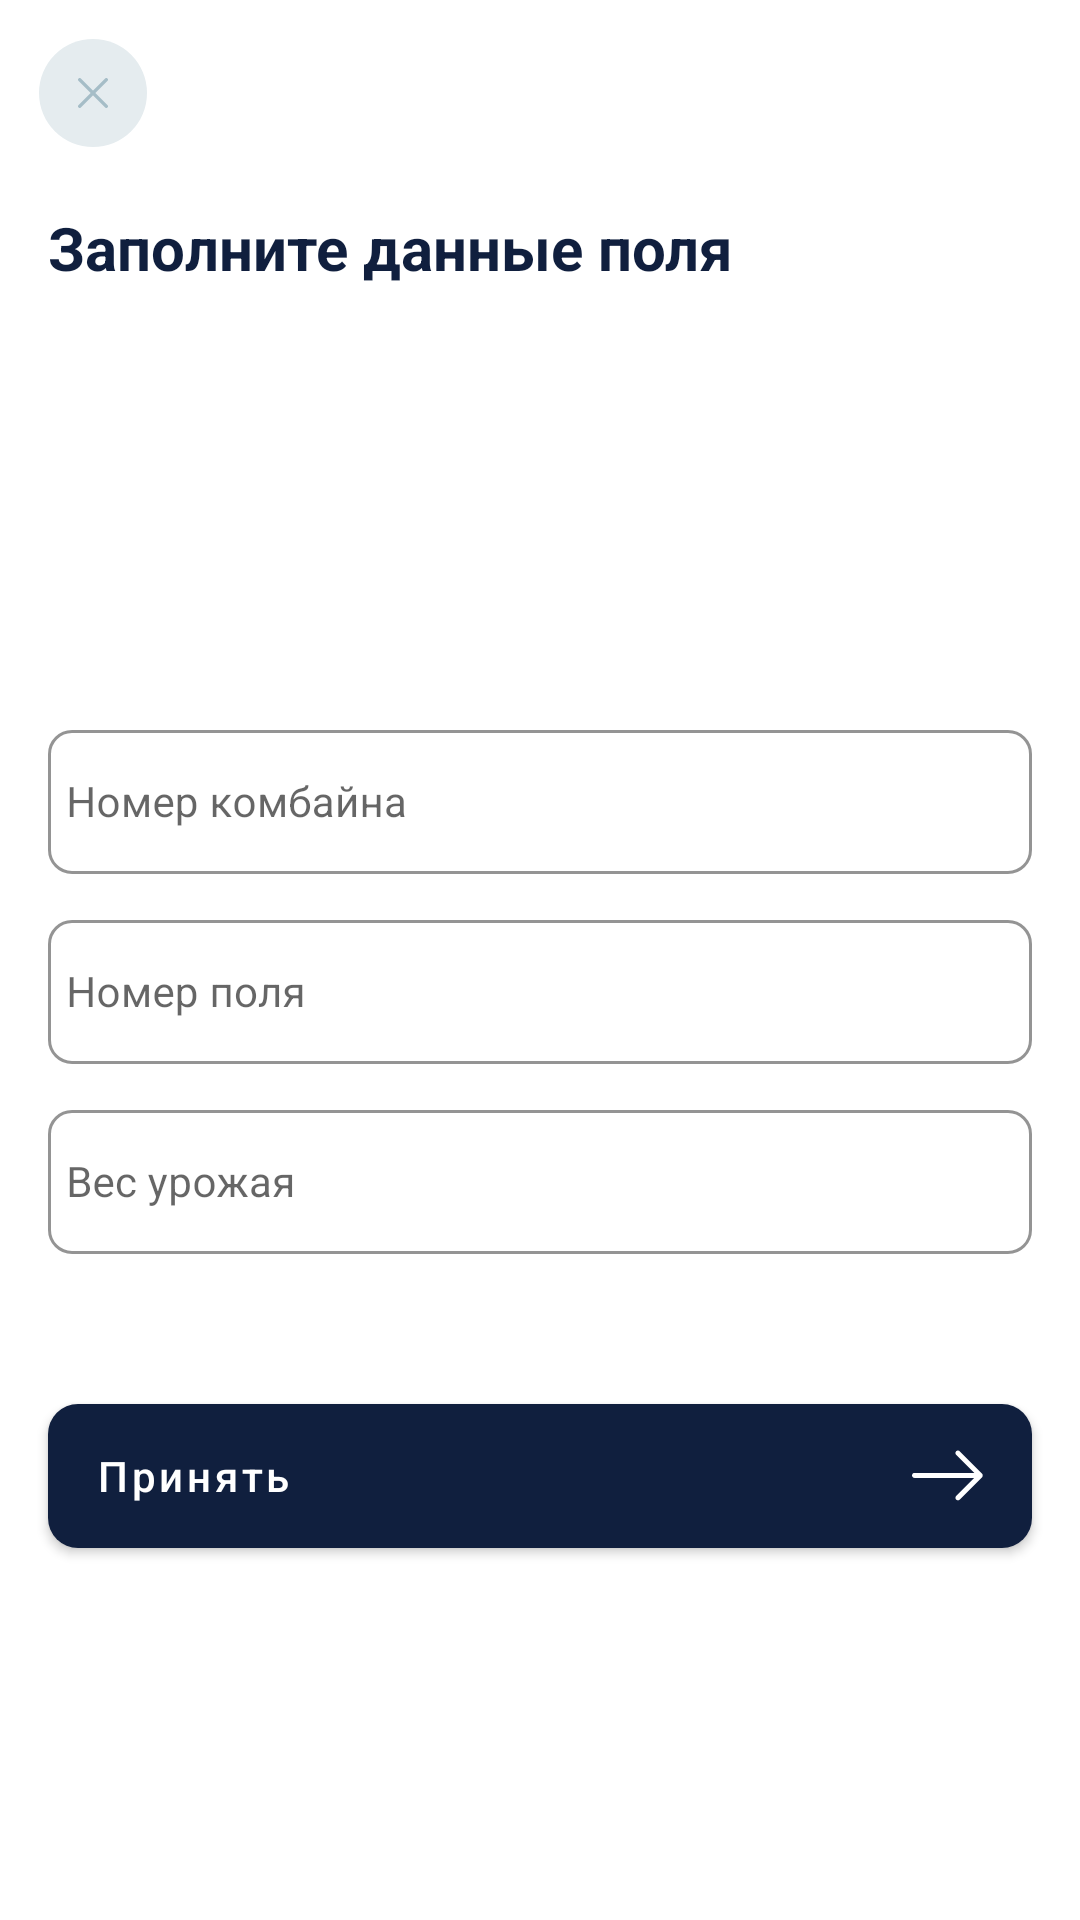

Screen size 1080 × 1920. Icon name, then its center in pixels as (x,y):
close: (93,93)
